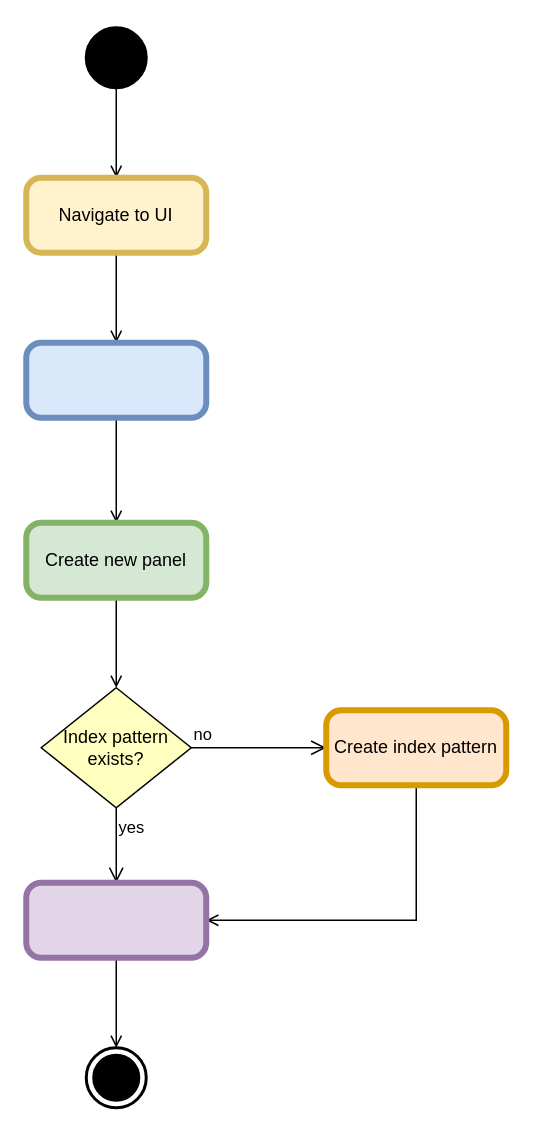
Some shapes in this 533 by 1134 pixel diagram are drawn without their labels. Each missing label, with the box of its shape:
Create new dashboard: (25, 341, 206, 418)
Create visualization: (25, 881, 206, 958)
